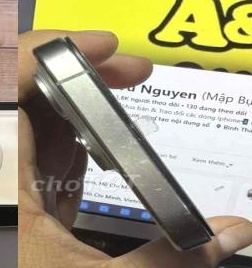scratch: (121, 159, 196, 240), (37, 40, 111, 84), (96, 113, 147, 162)
